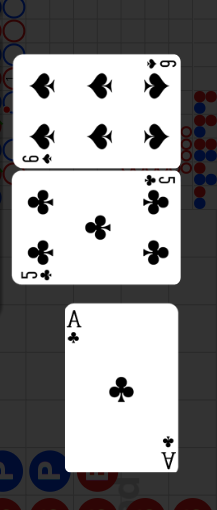5C: (20, 267, 54, 282)
6S: (144, 58, 177, 71)
AC: (158, 432, 176, 470)
